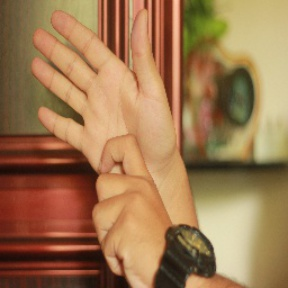R: (33, 12, 175, 253)
